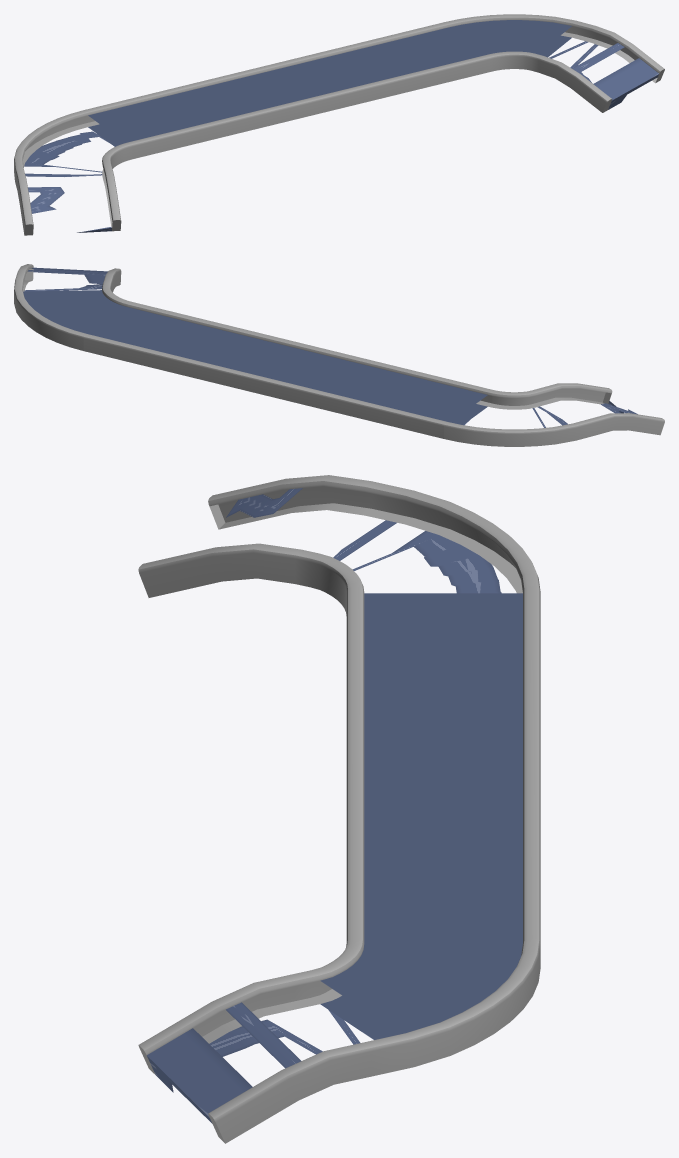
The model's file is Bridge.fbx.
3 renders of one model, top to bottom at view 1: azimuth 30°, elevation 25°; view 2: azimuth 150°, elevation 25°; view 3: azimuth 270°, elevation 25°, orthographic. The views are drawn at different scales.
Parts seen in each view (by area): view 1: Drop3; view 2: Drop3; view 3: Drop3.
Part boxes in pixels (<box>): Drop3: <box>14,14,664,235</box>; Drop3: <box>14,264,664,446</box>; Drop3: <box>138,475,540,1143</box>.
Bounding box in the file's own units: 6747 × 353 × 1836.
Materials: 2 (1 with a texture image).
